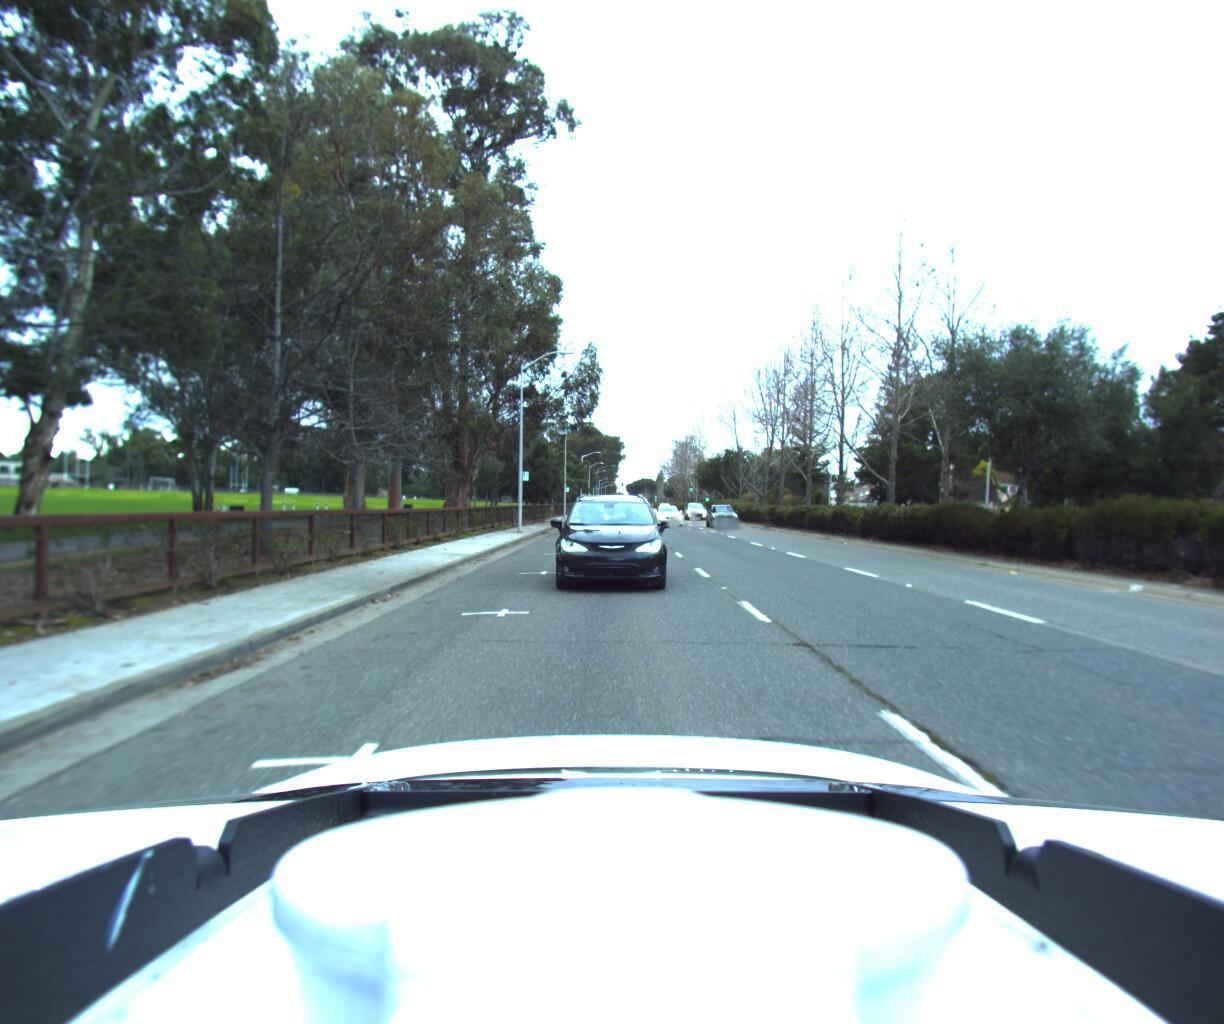car: (552, 488, 665, 592), (705, 501, 744, 526), (652, 501, 683, 524), (686, 500, 713, 518)
